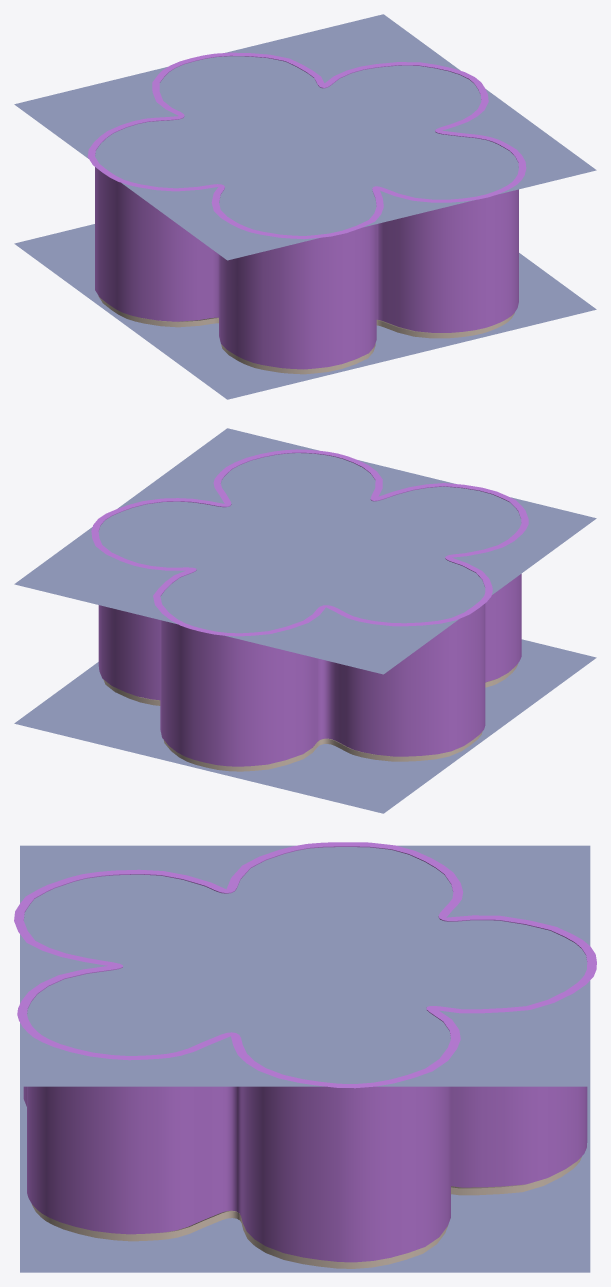
The model's file is estasdfasfd.fbx.
3 views of the same model, one above another, from view 1: azimuth 30°, elevation 25°; view 2: azimuth 150°, elevation 25°; view 3: azimuth 270°, elevation 25° (orthographic). The views are drawn at different scales.
Parts seen in each view (by area): view 1: roof, woools, floor; view 2: roof, woools, floor; view 3: roof, woools, floor.
Boxes of the visible parts, box(x1,y1,x2,y2) form: roof: box(14, 14, 596, 260); woools: box(87, 52, 526, 374); floor: box(14, 224, 596, 399); roof: box(14, 428, 596, 674); woools: box(91, 449, 528, 771); floor: box(14, 639, 596, 813); roof: box(20, 845, 590, 1086); woools: box(14, 842, 596, 1268); floor: box(20, 1086, 590, 1272).
Bounding box in the file's own units: 1450 × 514 × 1453.
